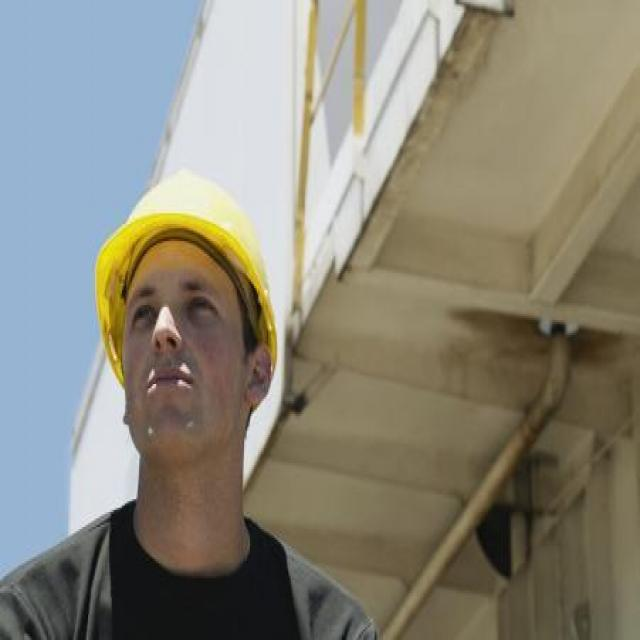hat: (71, 104, 314, 542)
